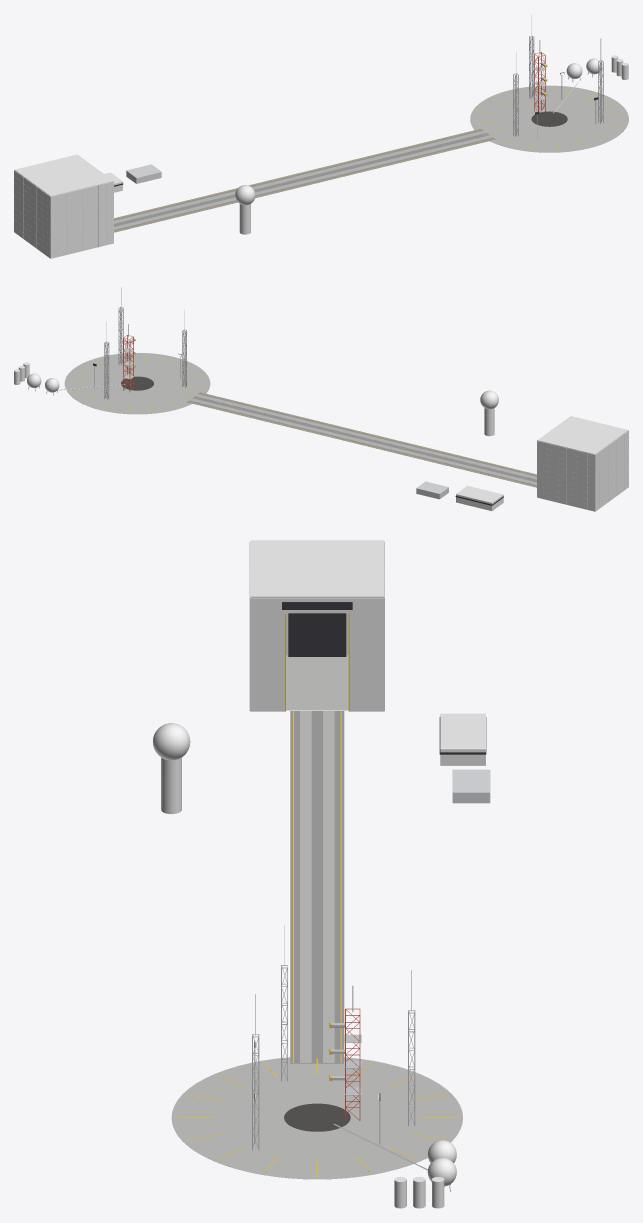
The model's file is site.glb.
3 renders of one model, top to bottom at view 1: azimuth 30°, elevation 25°; view 2: azimuth 150°, elevation 25°; view 3: azimuth 270°, elevation 25°, orthographic. The views are drawn at different scales.
Visible parts, largest first — view 1: site; view 2: site; view 3: site.
Boxes of the visible parts, x1=… form: site: x1=14, y1=14, x2=628, y2=258; site: x1=14, y1=287, x2=628, y2=511; site: x1=153, y1=540, x2=490, y2=1208.
Size of the model in its own units: 629 by 82.06 by 162.
